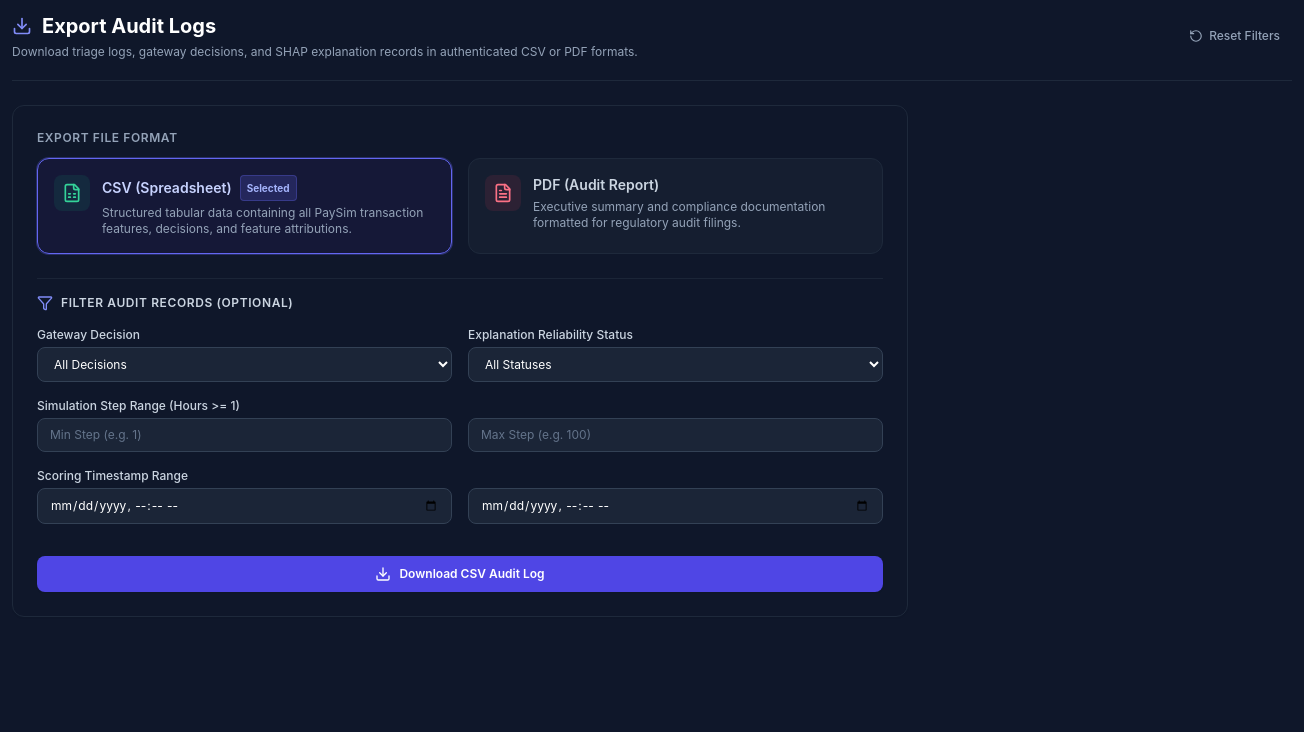
Test: ExportView Page › displays safety cap error banner on HTTP 400 with server message
Click the button with test id "download-export-button".
click(460, 574)  # box [37,556,883,592]
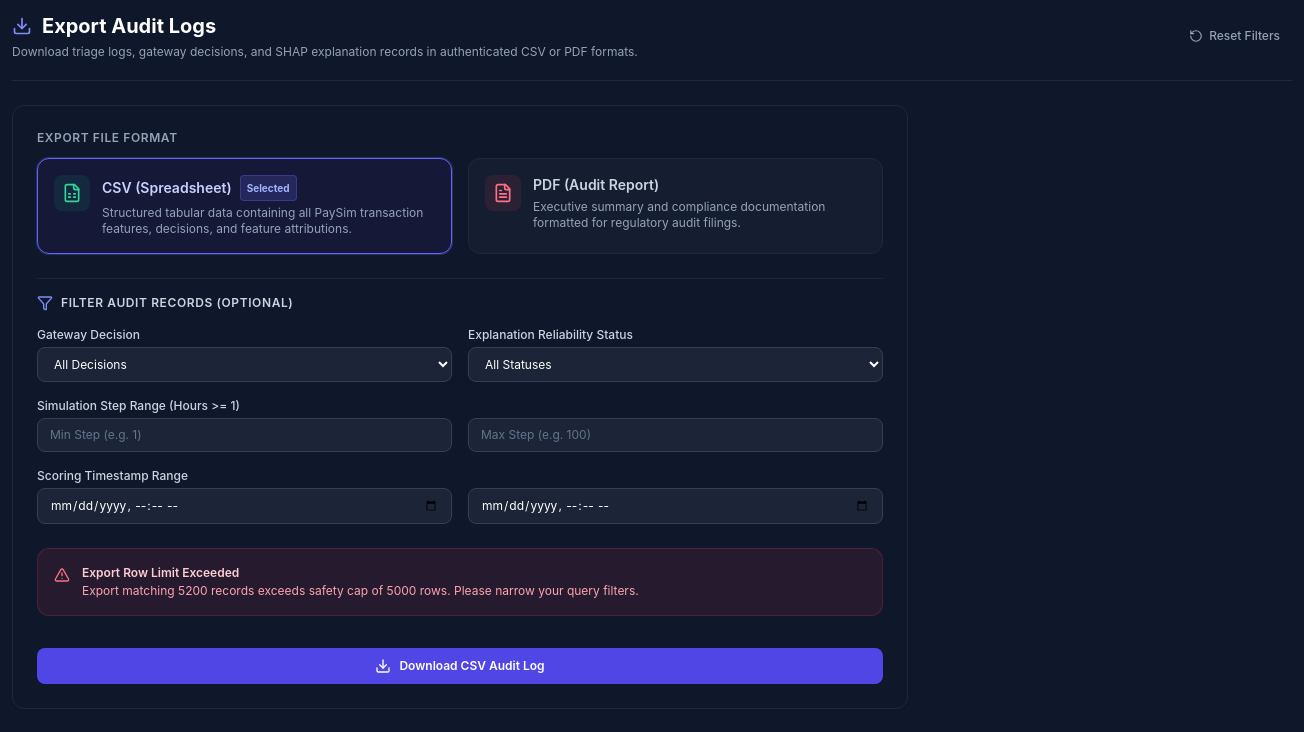
Expected: the element with test id "export-error-banner" is shown, [37,548,883,616]
Expected: the text "Export Row Limit Exceeded" is shown, [82,565,239,580]
Expected: the text "exceeds safety cap of 5000 rows" is shown, [82,583,639,598]
